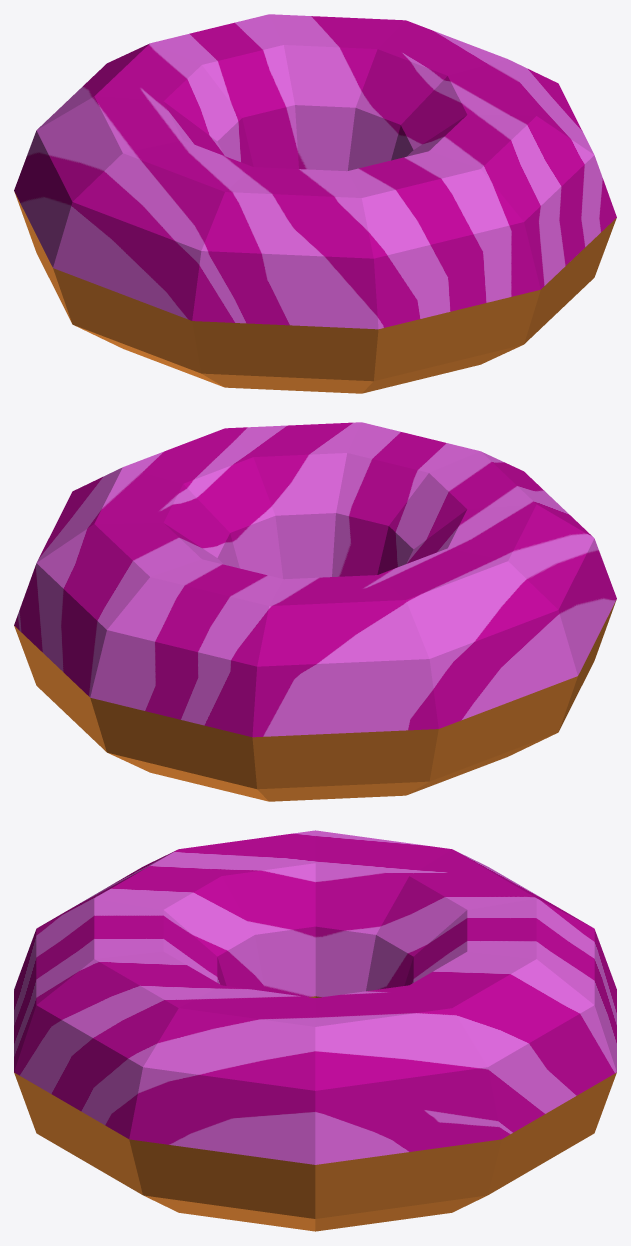
Rendered from DONUT.obj.
The picture shows the model from 3 angles, top to bottom: view 1: azimuth 30°, elevation 25°; view 2: azimuth 150°, elevation 25°; view 3: azimuth 270°, elevation 25°; orthographic projection. The views are drawn at different scales.
Parts seen in each view (by area): view 1: Donut_Torus; view 2: Donut_Torus; view 3: Donut_Torus.
Part boxes in pixels (box(x1,y1,x2,y2)): Donut_Torus: box(14, 14, 616, 393); Donut_Torus: box(14, 422, 616, 801); Donut_Torus: box(14, 830, 616, 1231).
Size of the model in its own units: 2.8 by 0.9955 by 2.66.
